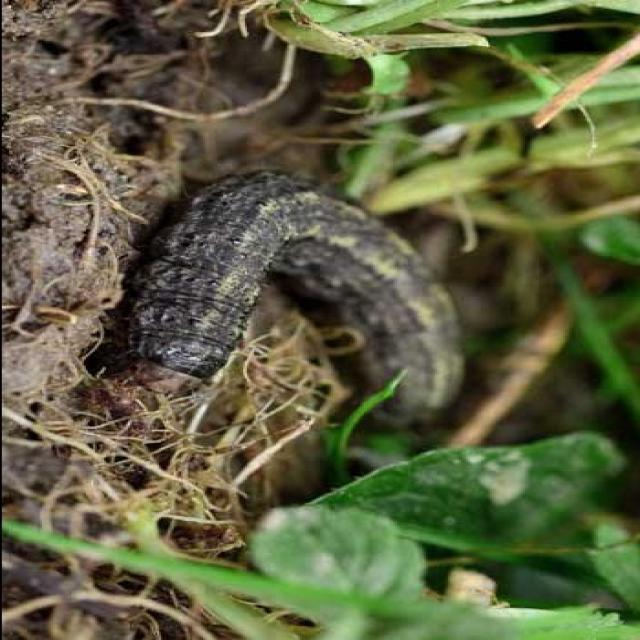black cutworm: (121, 172, 481, 439)
